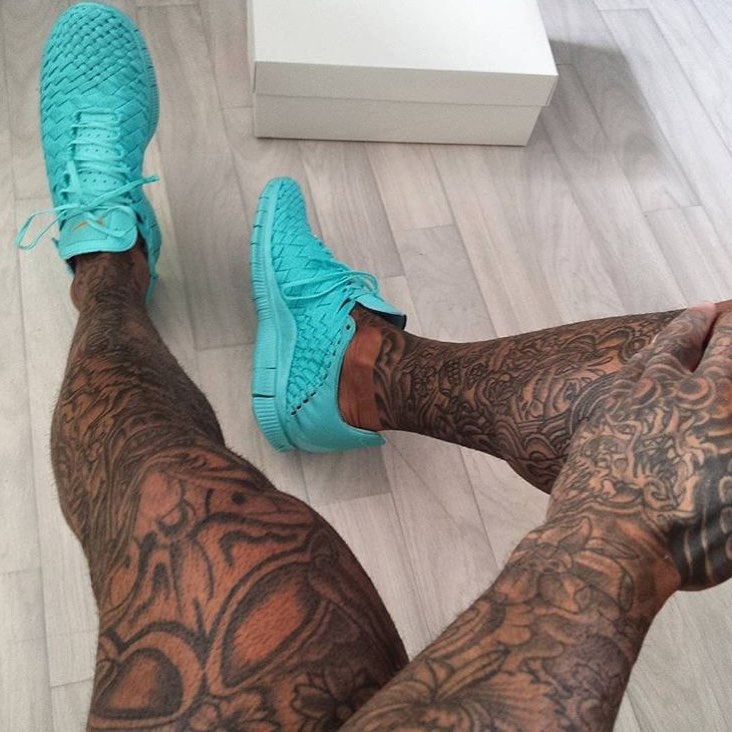sneaker: (240, 161, 421, 474), (14, 1, 193, 315)
